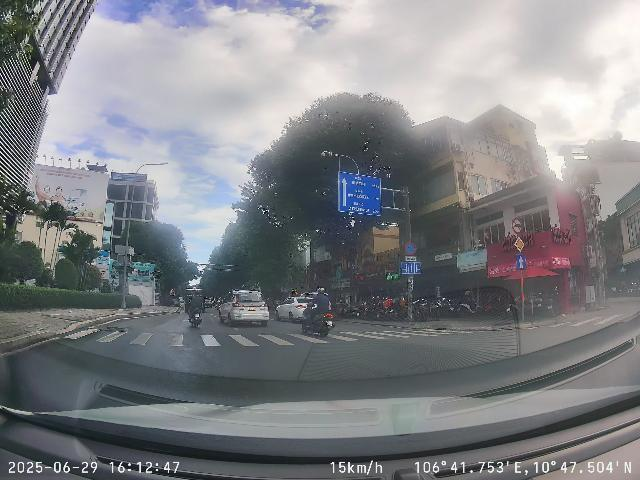106-cam-oto-tai: (512, 217, 523, 234)
131a-cam-do-xe: (405, 242, 417, 255)
